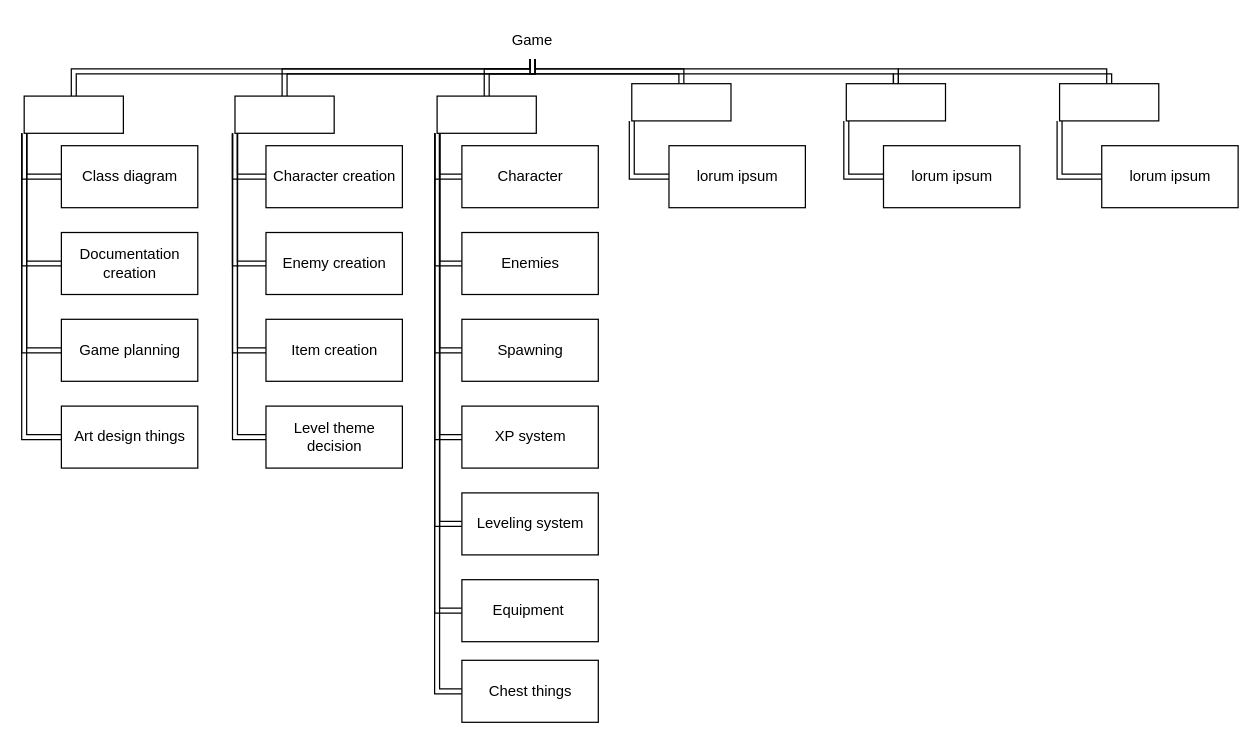
Image size: 1260x744. Some labels were removed from this diagram. The centre of each missing label's shape, as x and y in pixels:
"asset creation" goes at pixel 284 114.
"Component creation" goes at pixel 681 101.
"Level design" goes at pixel 895 101.
"planning" goes at pixel 73 114.
"Programing" goes at pixel 486 114.
"Quality assurance" goes at pixel 1108 101.
